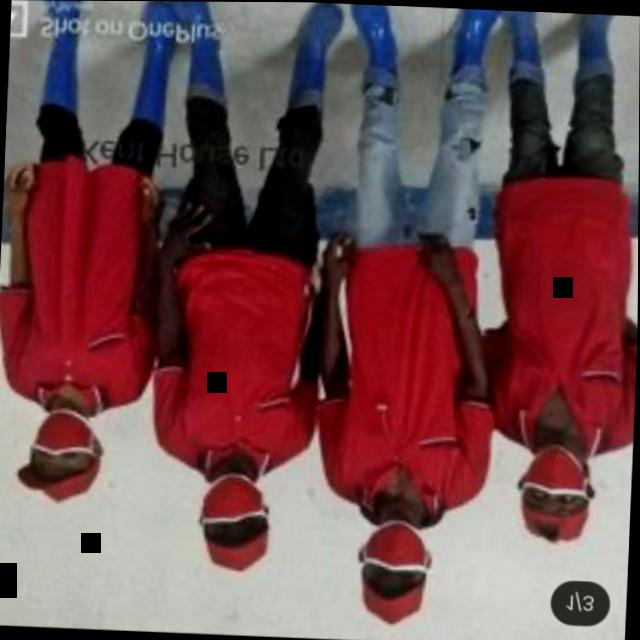Mask: (358, 522, 434, 625), (29, 409, 104, 507), (518, 445, 593, 540), (200, 481, 271, 574)
